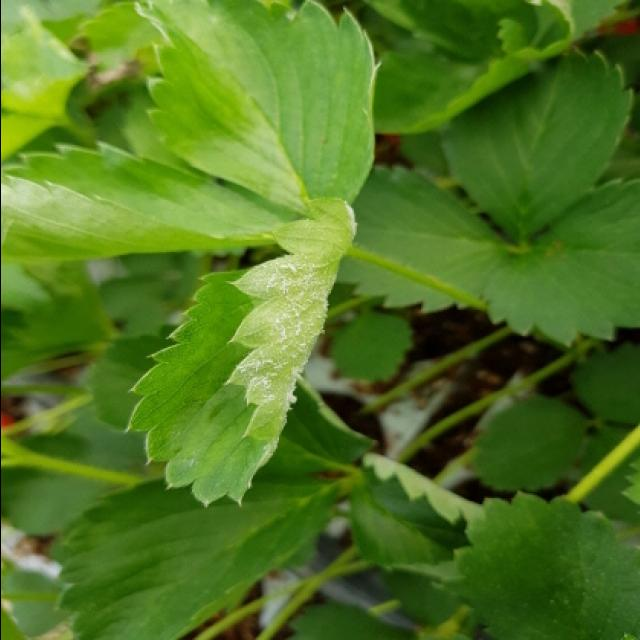Powdery Mildew Leaf: (125, 193, 359, 509)
